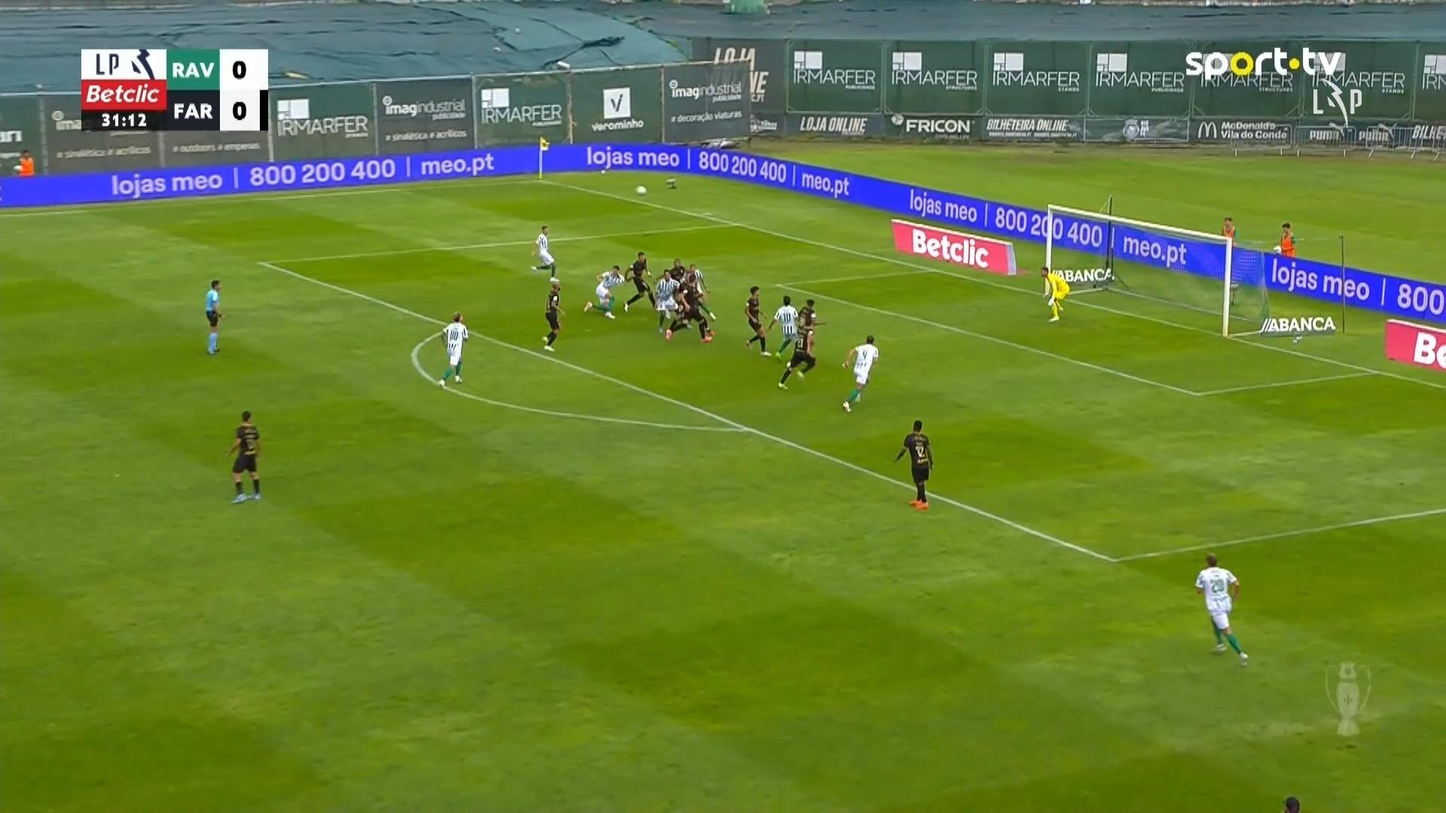ball: (635, 185, 645, 194)
goalkeeper: (1040, 266, 1069, 322)
player: (1194, 553, 1249, 666), (776, 298, 822, 390), (894, 419, 933, 510), (225, 410, 262, 503), (664, 277, 715, 342), (840, 333, 879, 413), (437, 311, 468, 388), (583, 264, 624, 319), (768, 294, 799, 361), (622, 251, 656, 312), (682, 263, 716, 323), (743, 285, 771, 356), (541, 276, 565, 352), (653, 268, 679, 334), (529, 224, 557, 279)
referee: (203, 279, 224, 354)
